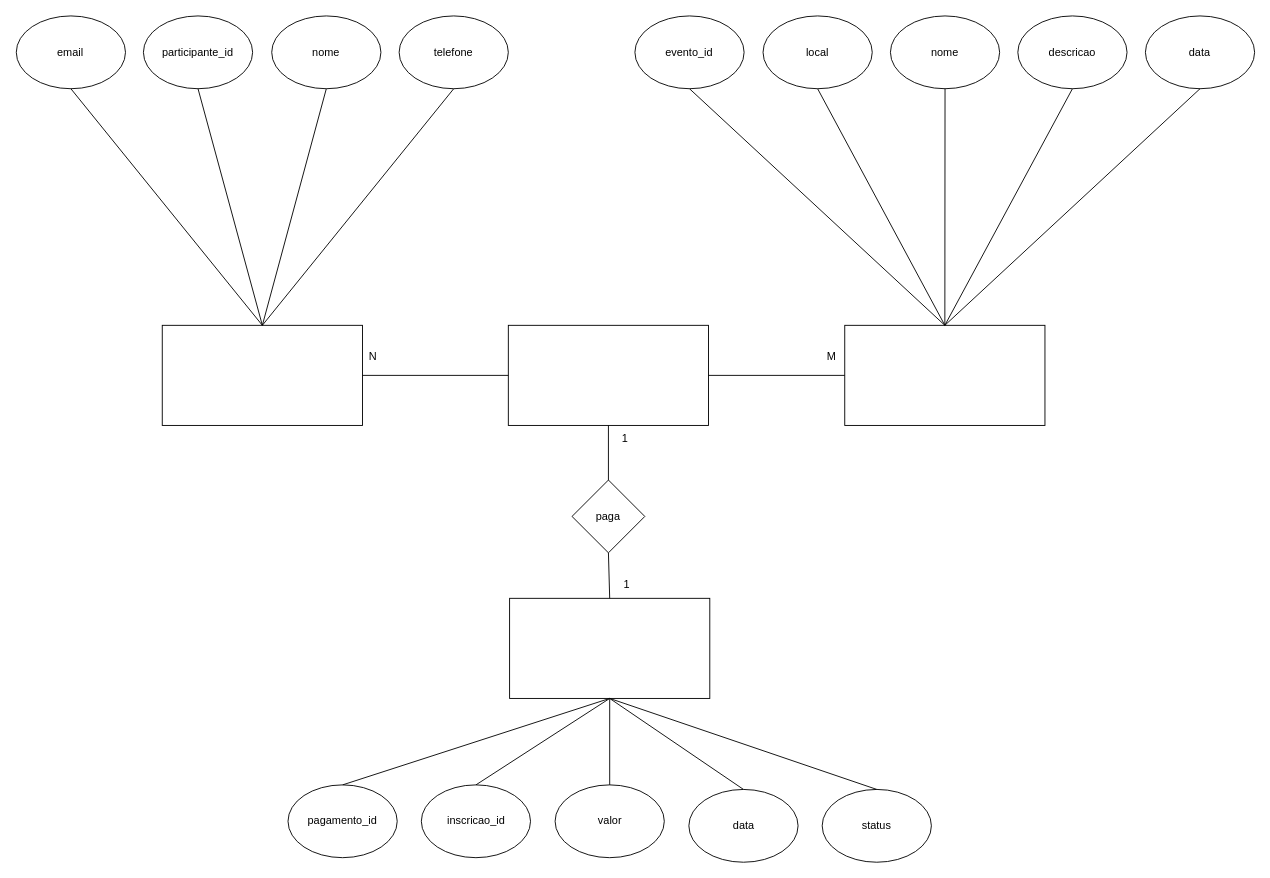
Some shapes in this 1270 by 878 pixel diagram are drawn without their labels. The centre of each missing label's shape, as x and y in pixels:
"Evento" goes at (x=944, y=374).
"Inscricao" goes at (x=608, y=374).
"Pagamento" goes at (x=609, y=647).
"Participante" goes at (x=261, y=374).
